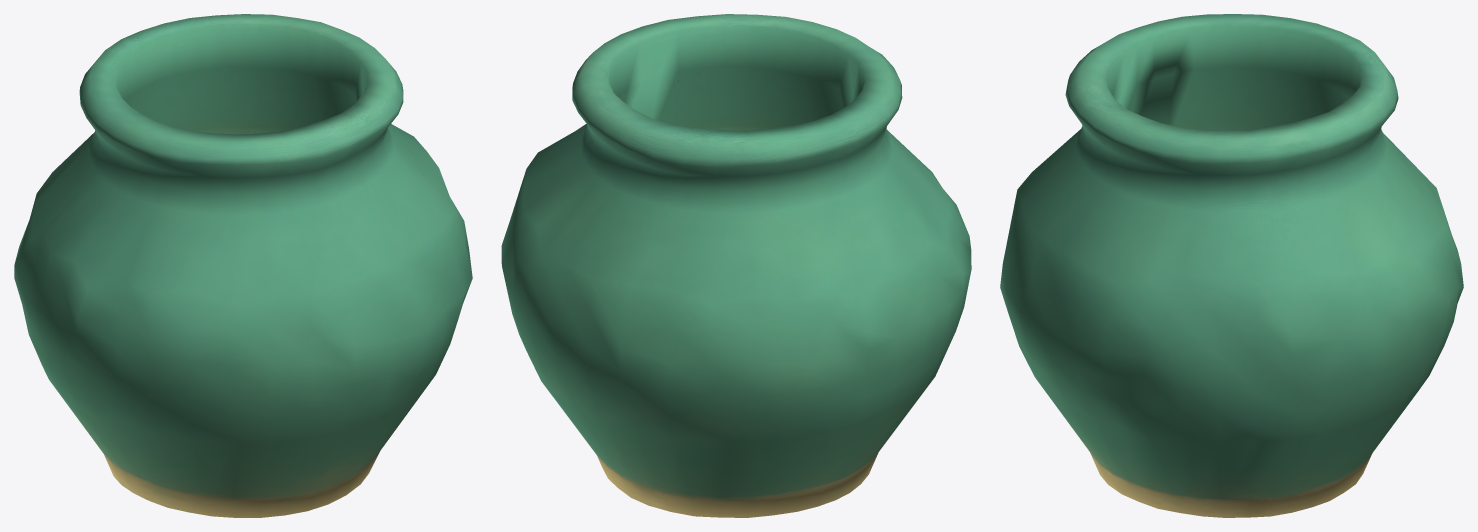
3 views of the same model, side by side, from view 1: azimuth 30°, elevation 25°; view 2: azimuth 150°, elevation 25°; view 3: azimuth 270°, elevation 25° (orthographic).
Parts seen in each view (by area): view 1: tripo_node_dcd1ac8e-3624-4cb6-a315-15287cb84b1e; view 2: tripo_node_dcd1ac8e-3624-4cb6-a315-15287cb84b1e; view 3: tripo_node_dcd1ac8e-3624-4cb6-a315-15287cb84b1e.
Part boxes in pixels (x1,y1,x2,y2): tripo_node_dcd1ac8e-3624-4cb6-a315-15287cb84b1e: [14, 14, 472, 517]; tripo_node_dcd1ac8e-3624-4cb6-a315-15287cb84b1e: [501, 14, 971, 517]; tripo_node_dcd1ac8e-3624-4cb6-a315-15287cb84b1e: [1000, 14, 1463, 517].
Size of the model in its own units: 0.9941 by 0.9238 by 0.998.
Materials: 1 (1 with a texture image).
